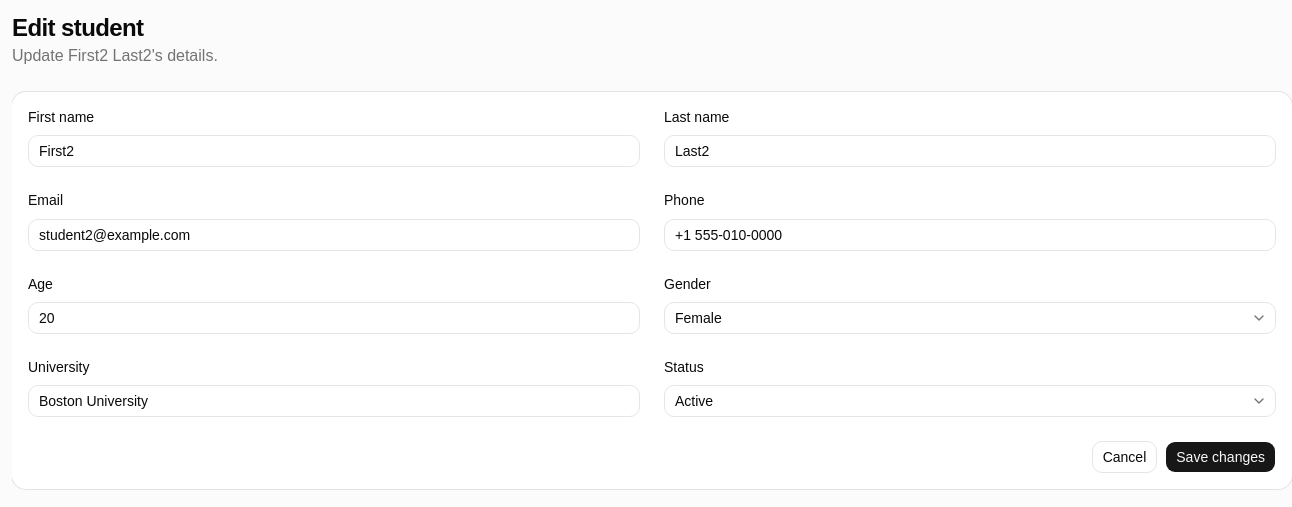
Test: Edit student › saves changes and shows them on the details page
The width and height of the screenshot is (1292, 507).
Replace the text in the field labelled "First name" with "Grace". click: (334, 151)
box: [28,135,640,167]
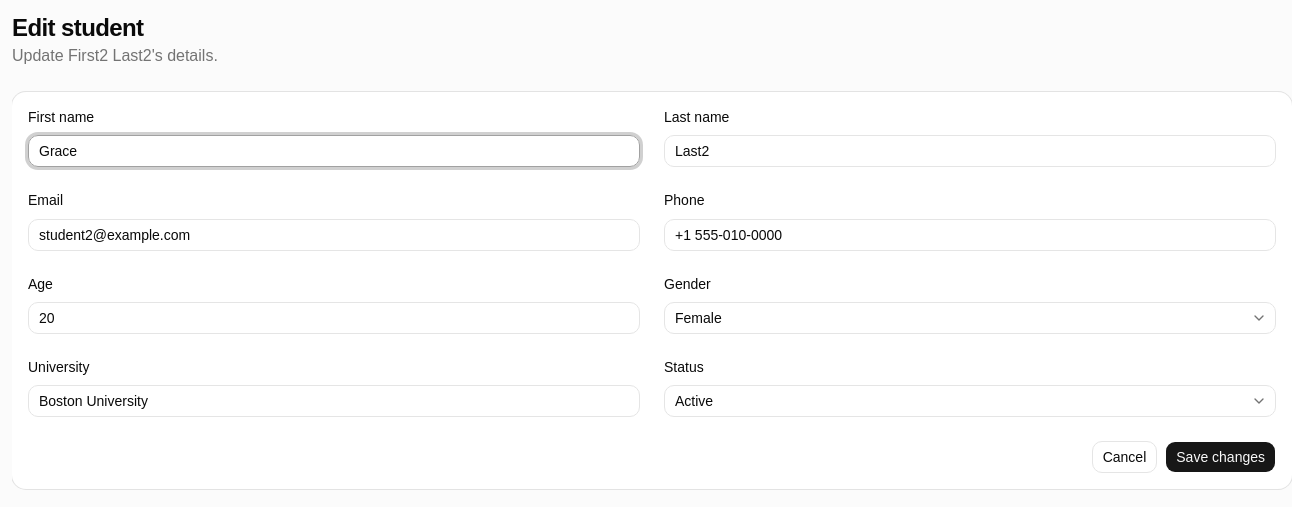
Click the button "Save changes". click: (1221, 457)
box: [1165,441,1276,473]
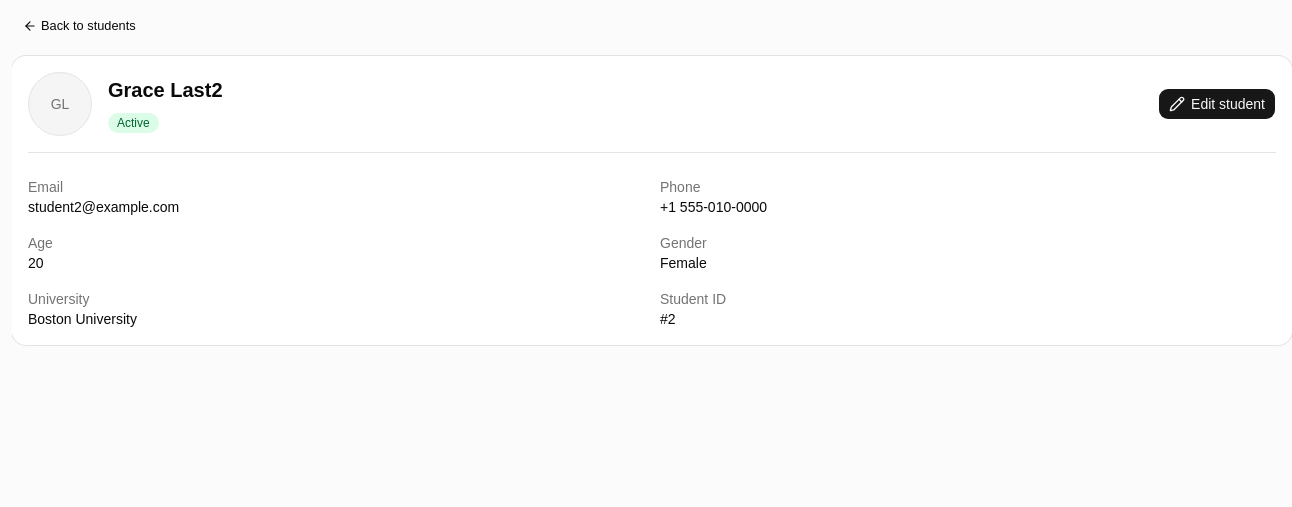
Expected: the heading "Grace Last2" is shown, [108,78,222,100]
